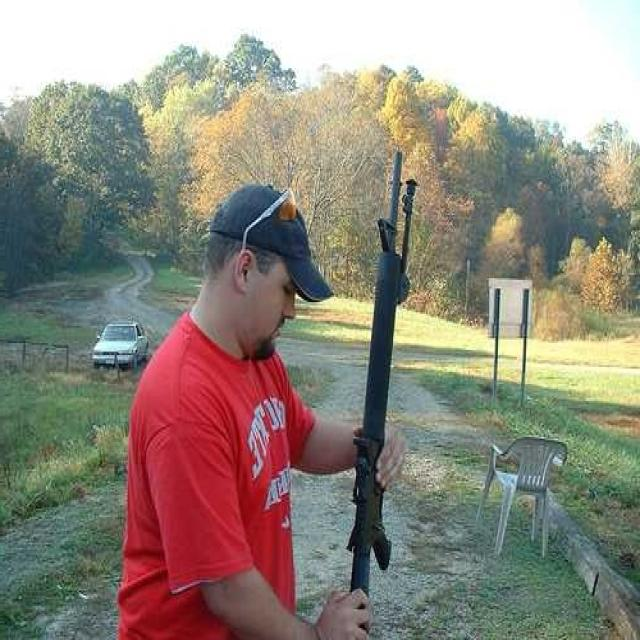heavyweapon: (321, 134, 443, 640)
